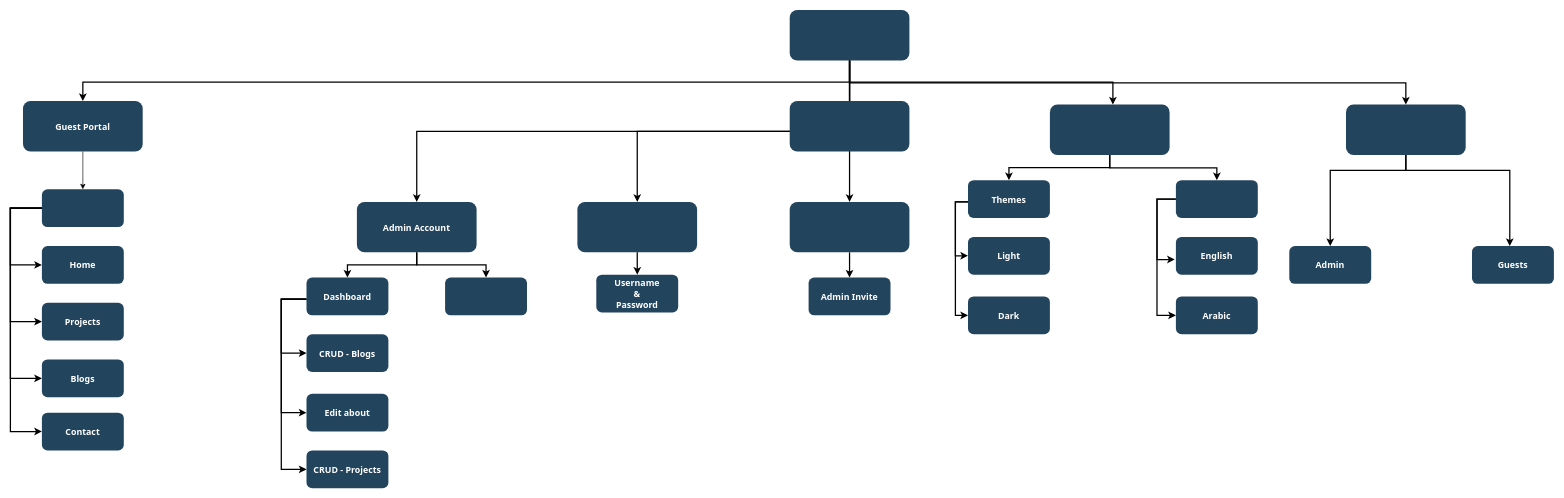
Image size: 1564x498. Some labels were removed from this diagram. The centre of each missing label's shape, as x and y in pixels:
"Admin Portal" belongs at pixel 849 126.
"Authentication" belongs at pixel 637 227.
"Languages" belongs at pixel 1216 199.
"Pages" belongs at pixel 82 208.
"Profile" belongs at pixel 486 296.
"Registration" belongs at pixel 849 227.
"System Requirements" belongs at pixel 849 35.
"UI" belongs at pixel 1109 129.
"Users" belongs at pixel 1405 129.
